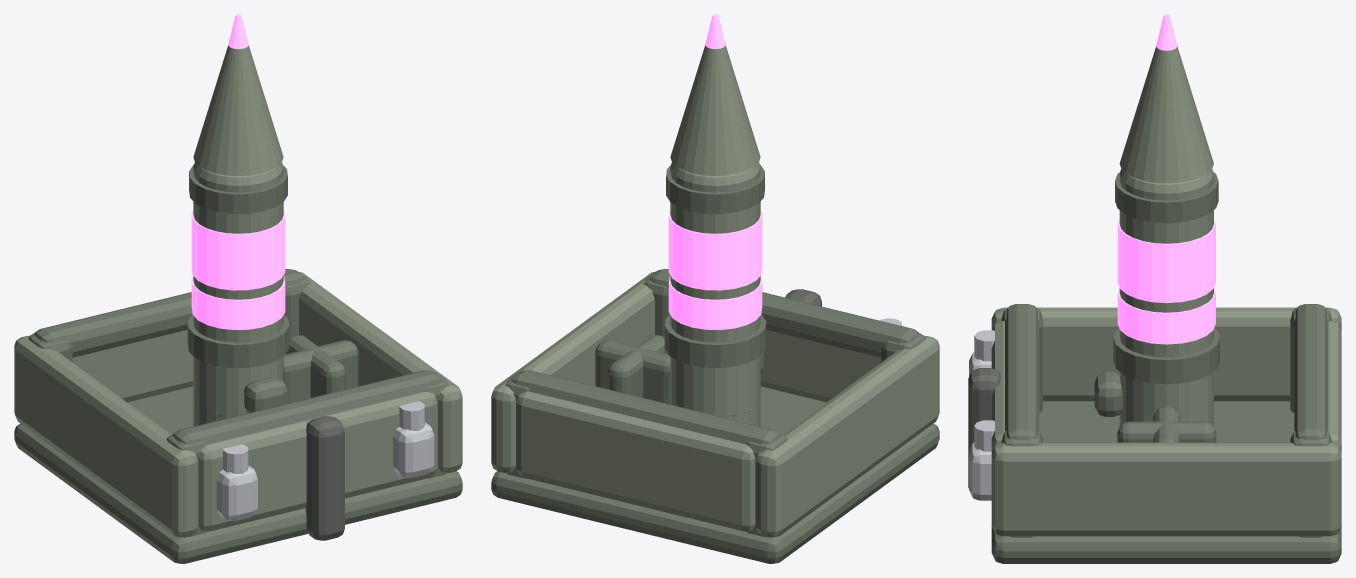
The model's file is pickup_rocket_round.glb.
The picture shows the model from 3 angles, left to right: view 1: azimuth 30°, elevation 25°; view 2: azimuth 150°, elevation 25°; view 3: azimuth 270°, elevation 25°; orthographic projection. The views are drawn at different scales.
Visible parts, largest first — view 1: pickup_rocket_round_crate_wall_l, pickup_rocket_round_crate_floor, pickup_rocket_round_crate_wall_f, pickup_rocket_round_tube, pickup_rocket_round_crate_wall_r, pickup_rocket_round_nose, pickup_rocket_round_crate_rail_f, pickup_rocket_round_crate_wall_b, pickup_rocket_round_warhead_badge, pickup_rocket_round_crate_rail_b, pickup_rocket_round_strap, pickup_rocket_round_warhead_band (+11 smaller); view 2: pickup_rocket_round_crate_wall_b, pickup_rocket_round_crate_wall_l, pickup_rocket_round_crate_floor, pickup_rocket_round_tube, pickup_rocket_round_crate_wall_r, pickup_rocket_round_nose, pickup_rocket_round_crate_rail_b, pickup_rocket_round_warhead_badge, pickup_rocket_round_crate_wall_f, pickup_rocket_round_crate_rail_f, pickup_rocket_round_warhead_band, pickup_rocket_round_collar_lo (+6 smaller); view 3: pickup_rocket_round_crate_wall_r, pickup_rocket_round_crate_floor, pickup_rocket_round_crate_wall_l, pickup_rocket_round_tube, pickup_rocket_round_nose, pickup_rocket_round_warhead_badge, pickup_rocket_round_crate_rail_b, pickup_rocket_round_crate_rail_f, pickup_rocket_round_warhead_band, pickup_rocket_round_collar_lo, pickup_rocket_round_collar_hi, pickup_rocket_round_crate_wall_b (+12 smaller).
Part boxes in pixels (<box>): pickup_rocket_round_crate_wall_l: <box>14,335,197,537</box>; pickup_rocket_round_crate_floor: <box>14,386,462,563</box>; pickup_rocket_round_crate_wall_f: <box>198,391,437,531</box>; pickup_rocket_round_tube: <box>193,162,283,426</box>; pickup_rocket_round_crate_wall_r: <box>298,271,462,472</box>; pickup_rocket_round_nose: <box>193,45,283,175</box>; pickup_rocket_round_crate_rail_f: <box>173,370,442,444</box>; pickup_rocket_round_crate_wall_b: <box>72,330,193,402</box>; pickup_rocket_round_warhead_badge: <box>191,210,285,290</box>; pickup_rocket_round_crate_rail_b: <box>34,269,303,357</box>; pickup_rocket_round_strap: <box>305,416,344,540</box>; pickup_rocket_round_warhead_band: <box>191,276,285,329</box>; pickup_rocket_round_crate_wall_b: <box>516,391,755,531</box>; pickup_rocket_round_crate_wall_l: <box>756,335,939,537</box>; pickup_rocket_round_crate_floor: <box>491,386,939,563</box>; pickup_rocket_round_tube: <box>670,162,760,426</box>; pickup_rocket_round_crate_wall_r: <box>491,271,655,472</box>; pickup_rocket_round_nose: <box>670,45,760,175</box>; pickup_rocket_round_crate_rail_b: <box>511,370,780,444</box>; pickup_rocket_round_warhead_badge: <box>668,210,762,290</box>; pickup_rocket_round_crate_wall_f: <box>760,330,881,402</box>; pickup_rocket_round_crate_rail_f: <box>650,269,919,357</box>; pickup_rocket_round_warhead_band: <box>668,276,762,329</box>; pickup_rocket_round_collar_lo: <box>664,314,766,367</box>; pickup_rocket_round_crate_wall_r: <box>991,442,1341,536</box>; pickup_rocket_round_crate_floor: <box>991,401,1341,563</box>; pickup_rocket_round_crate_wall_l: <box>991,307,1341,401</box>; pickup_rocket_round_tube: <box>1119,169,1213,426</box>; pickup_rocket_round_nose: <box>1119,46,1213,183</box>; pickup_rocket_round_warhead_badge: <box>1117,219,1215,303</box>; pickup_rocket_round_crate_rail_b: <box>1294,304,1328,439</box>; pickup_rocket_round_crate_rail_f: <box>1005,304,1039,439</box>; pickup_rocket_round_warhead_band: <box>1117,288,1215,344</box>; pickup_rocket_round_collar_lo: <box>1113,328,1219,384</box>; pickup_rocket_round_collar_hi: <box>1115,172,1218,223</box>; pickup_rocket_round_crate_wall_b: <box>1328,321,1341,452</box>.
Bounding box in the file's own units: 0.46 × 0.695 × 0.491.
